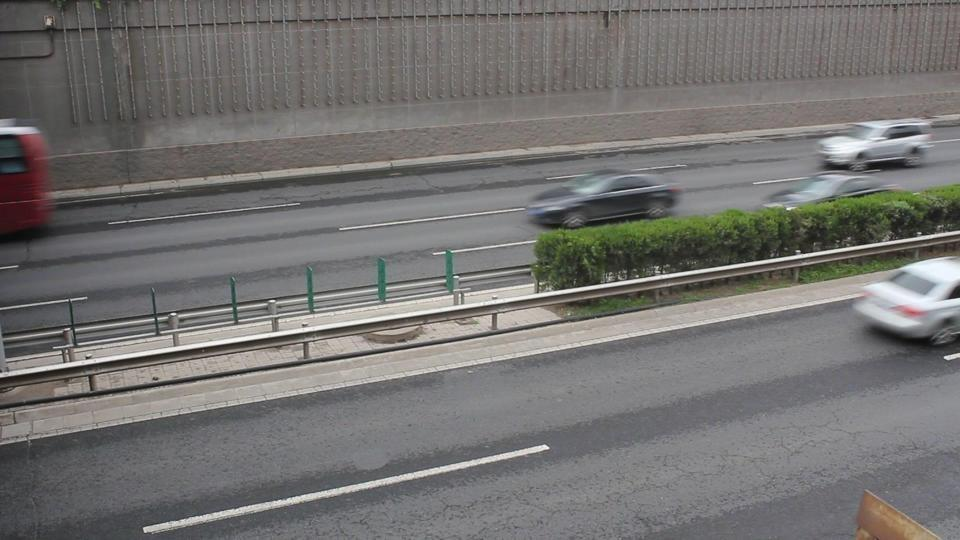car: (851, 255, 960, 345), (525, 172, 684, 230), (816, 118, 933, 171), (760, 173, 890, 213)
